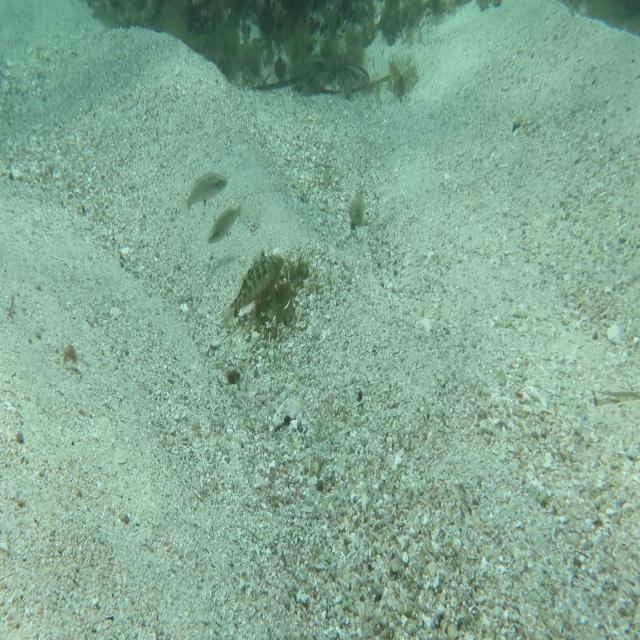ROLL: (216, 243, 288, 334)
female: (176, 160, 229, 218), (203, 200, 246, 249)
nest: (239, 250, 316, 348)
vegetation: (196, 36, 406, 88), (94, 0, 456, 29), (346, 184, 368, 240)
